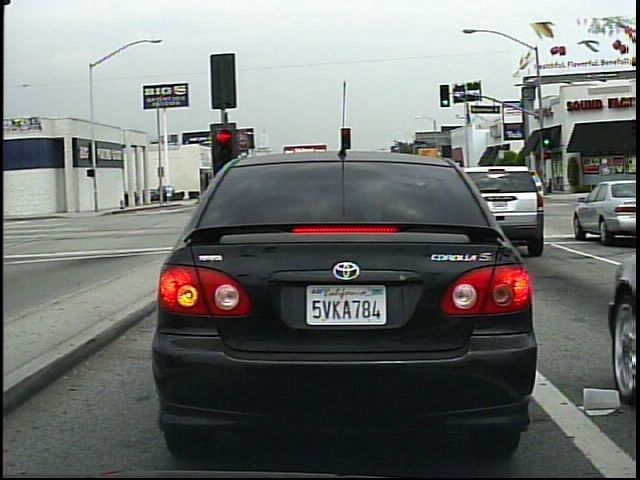person: (518, 166, 534, 198), (164, 183, 176, 206)
